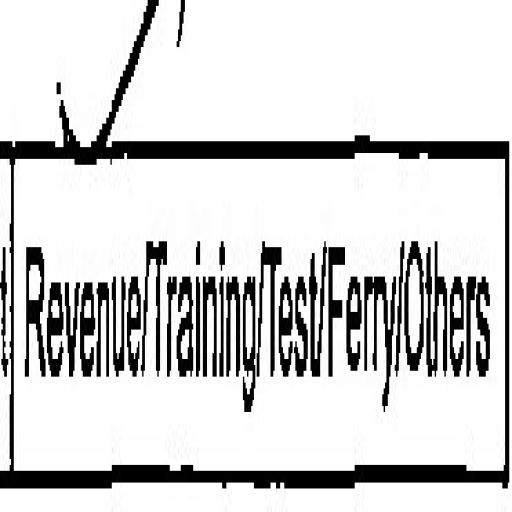check: (12, 0, 146, 512)
